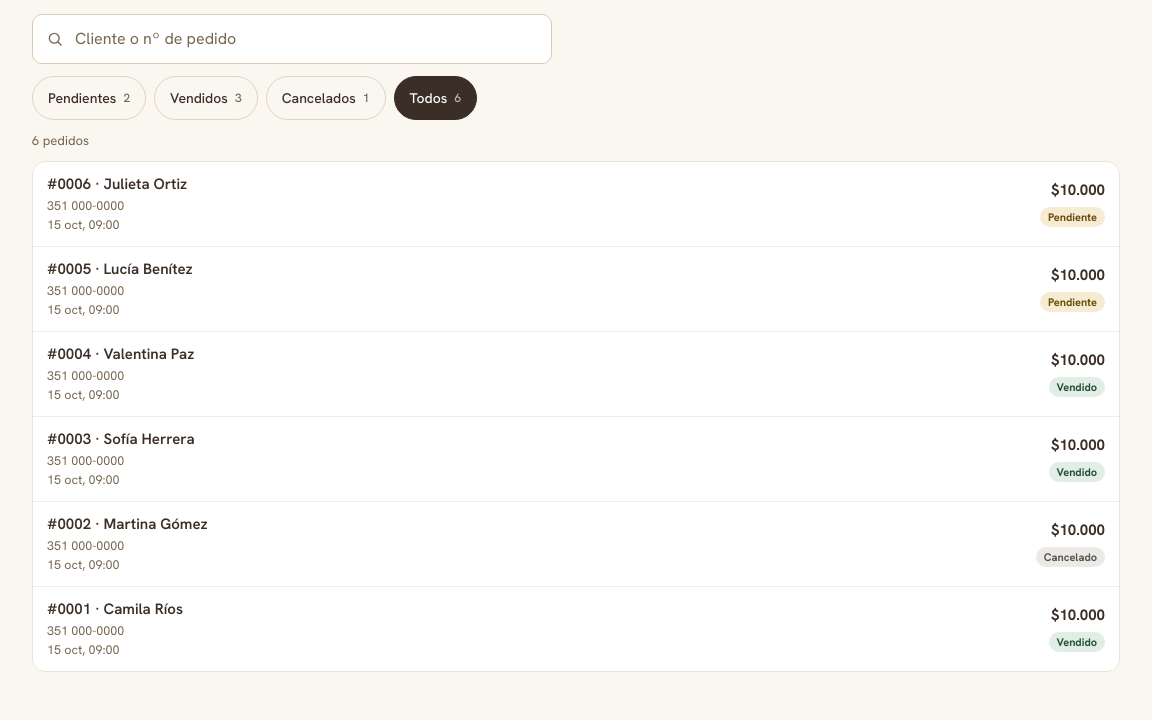
PedidosPage › busca por número y por cliente sin tildes
The image size is (1152, 720).
Type "#0006" into the search field named "Buscar pedidos" at (292, 39), box [32,14,552,64]
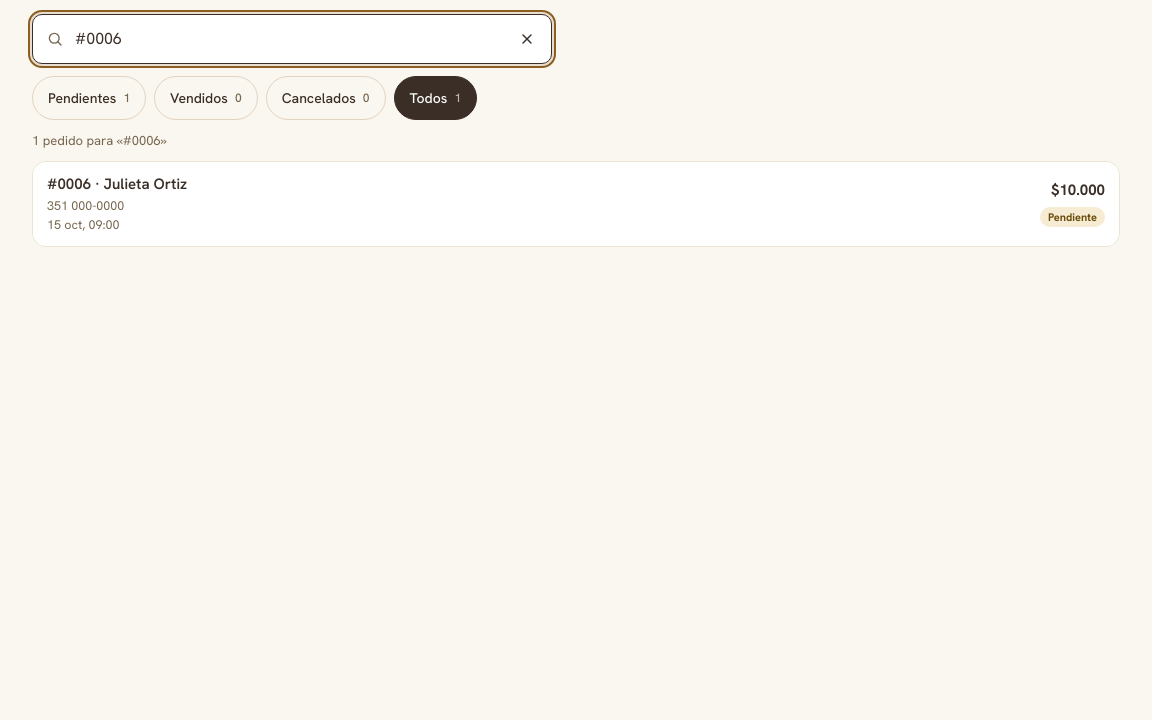
Replace the text in the search field named "Buscar pedidos" with "lucia" at (292, 39), box [32,14,552,64]
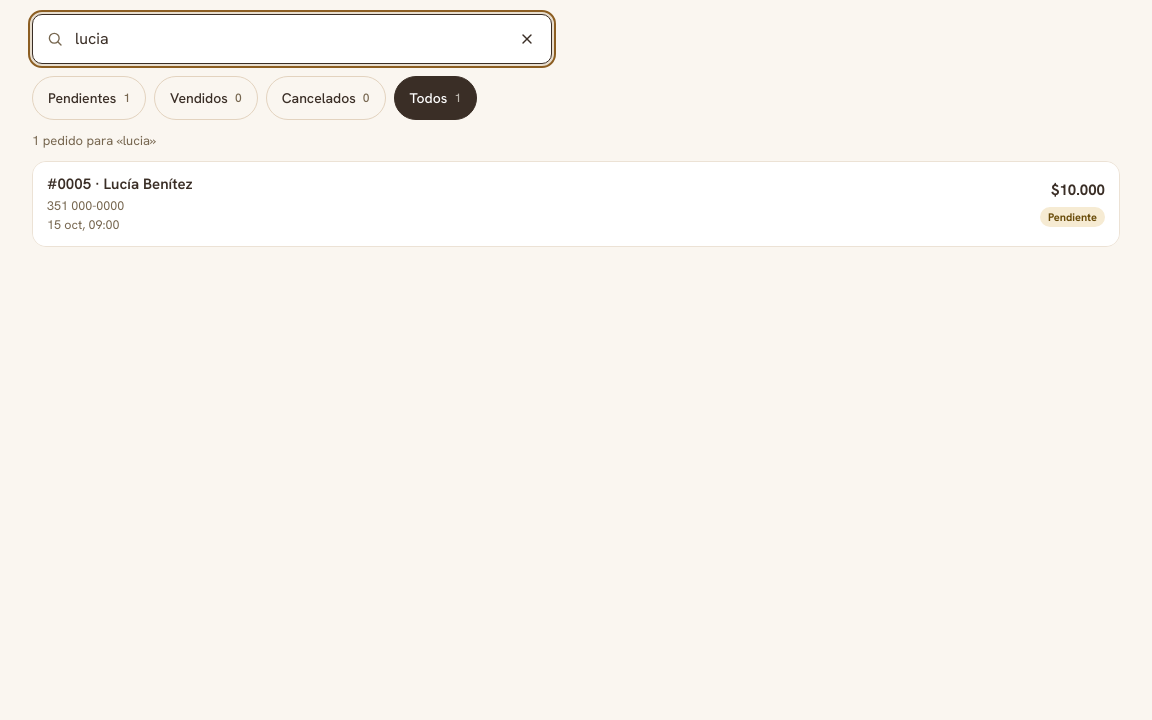
Now the text "1 pedido para «lucia»" is shown, box [32,132,156,149]
